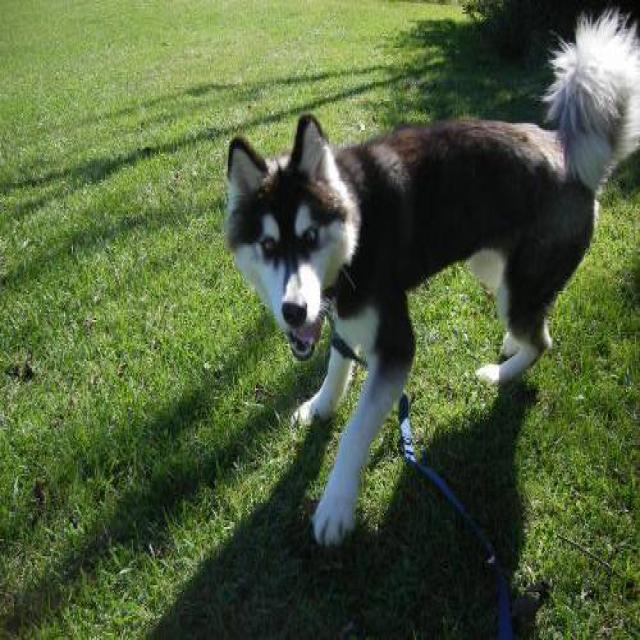dog: (222, 7, 638, 547)
